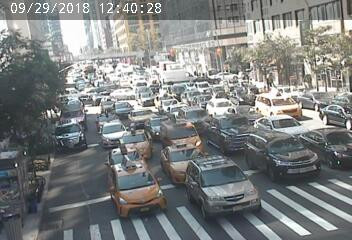car: (186, 158, 254, 211), (108, 166, 165, 210), (250, 140, 301, 182), (305, 130, 352, 166), (162, 144, 201, 176), (206, 116, 247, 144), (54, 128, 89, 158), (260, 92, 301, 115), (165, 126, 201, 149), (58, 100, 91, 125), (266, 117, 307, 137), (109, 146, 147, 164), (306, 88, 331, 113), (208, 100, 241, 116), (123, 134, 154, 151), (130, 87, 152, 109), (99, 122, 123, 142), (92, 96, 115, 116), (181, 106, 209, 120), (130, 109, 162, 121), (161, 100, 181, 111), (116, 102, 135, 112), (147, 119, 164, 130), (186, 88, 199, 99), (196, 97, 207, 108), (154, 98, 171, 103)
